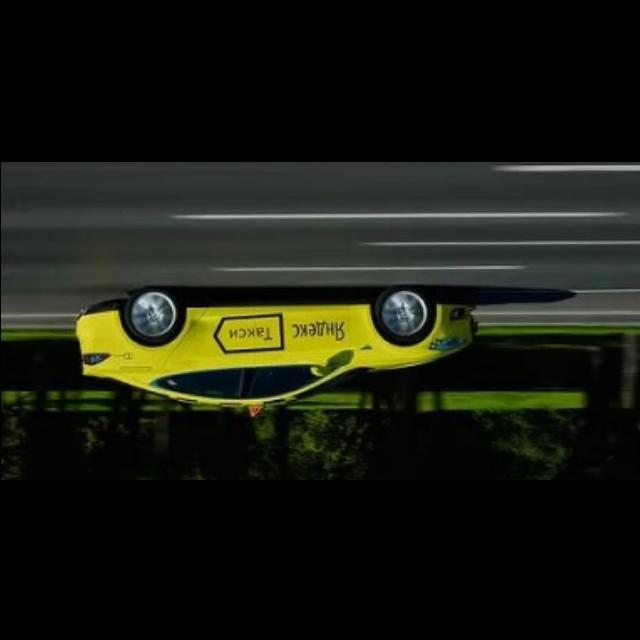taxi: (77, 286, 480, 415)
